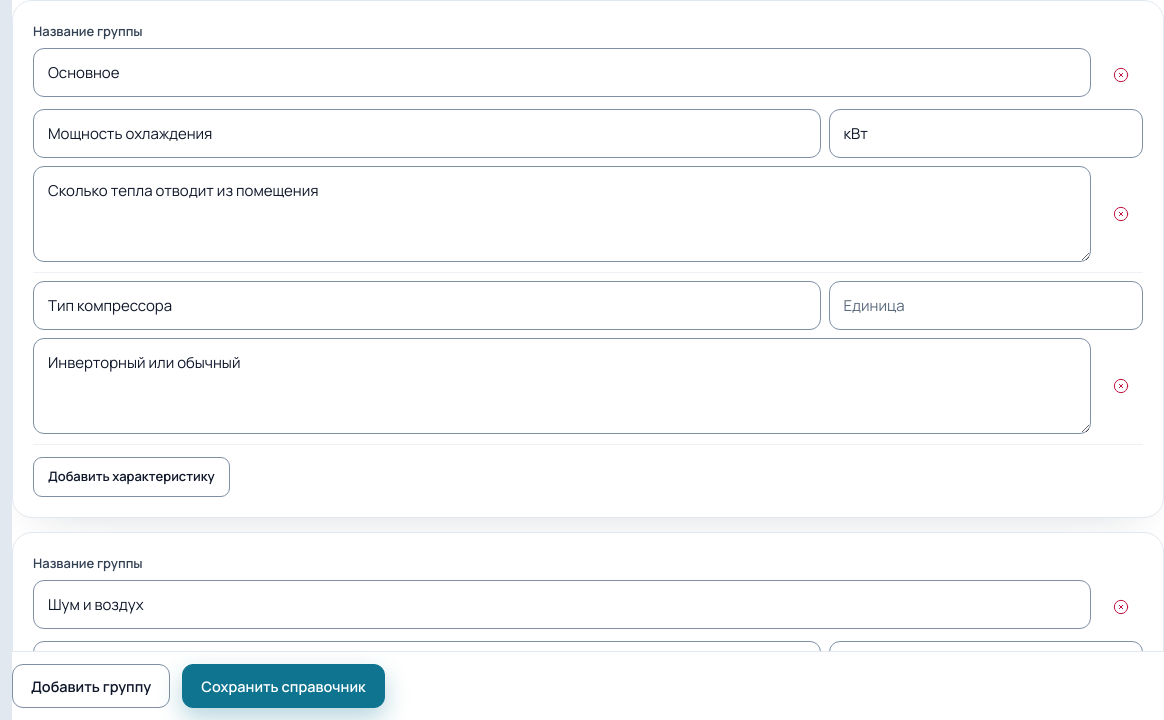
Scenario: Справочник характеристик › отправляет справочник целиком
The width and height of the screenshot is (1164, 720).
Click the button "Сохранить справочник": [283, 686] box [182,664,385,708]
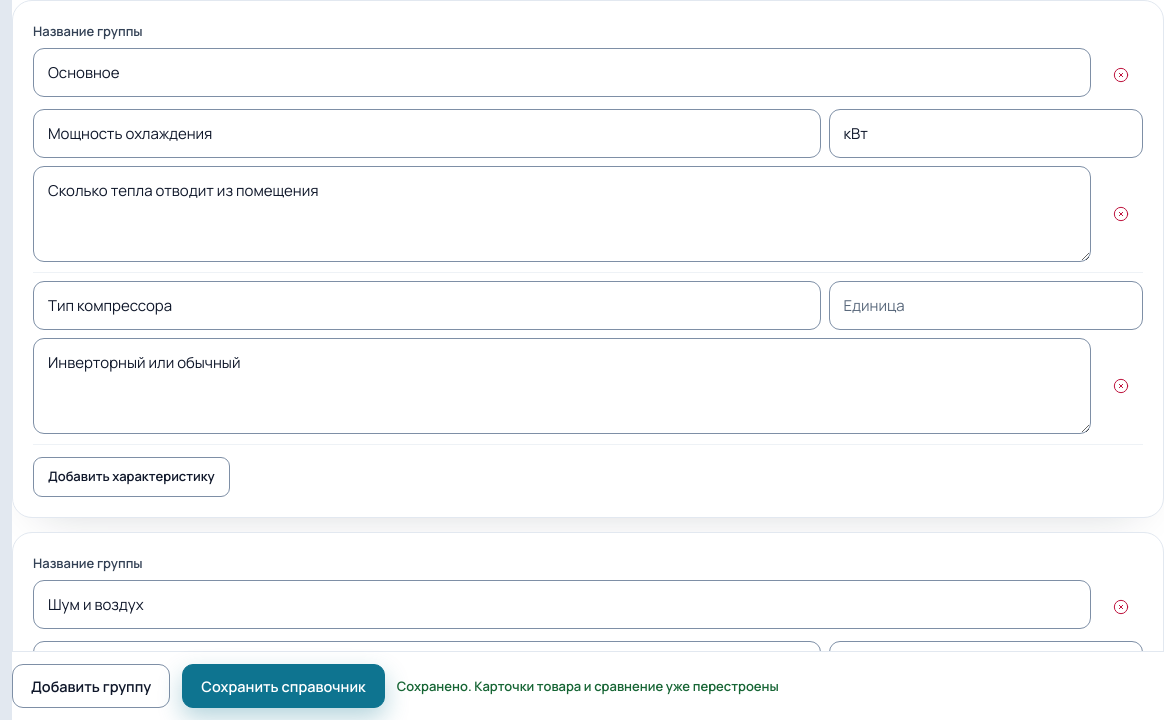
Expected: the text "Сохранено. Карточки товара и сравнение уже перестроены" is shown, [397,676,779,696]
